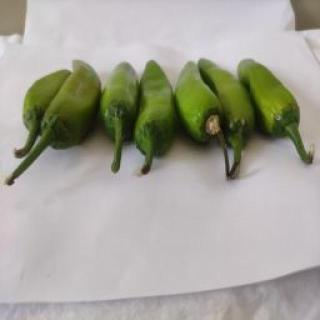Cabai Hijau: (3, 59, 101, 191), (236, 57, 320, 168), (173, 60, 231, 184), (101, 61, 140, 176), (135, 61, 174, 176)
